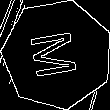M_E: (28, 27, 86, 82)
